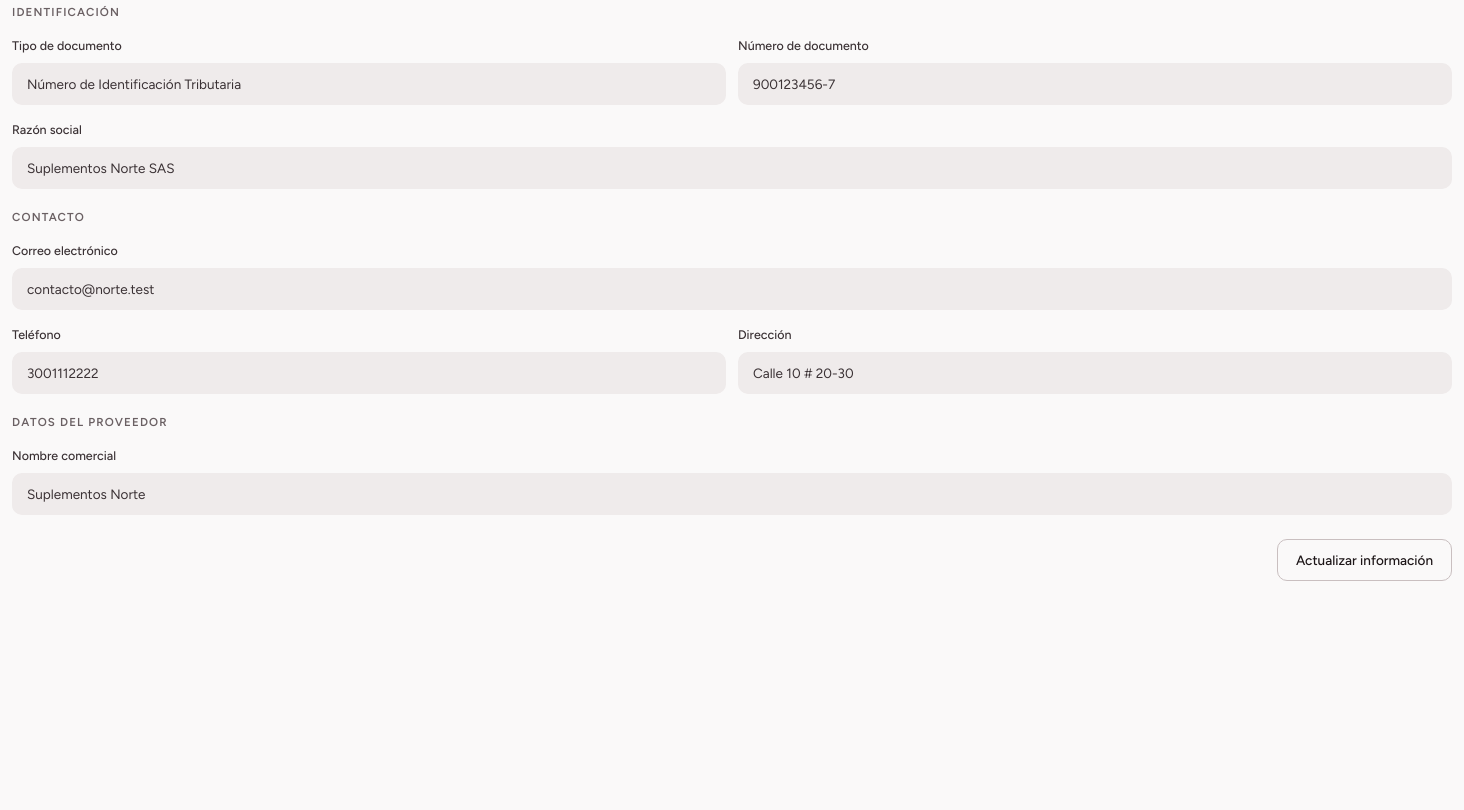
SupplierDataForm validation › uses the same rules as the registration
Click the button "Actualizar información" at (1364, 560), box x1=1277 y1=539 x2=1452 y2=581
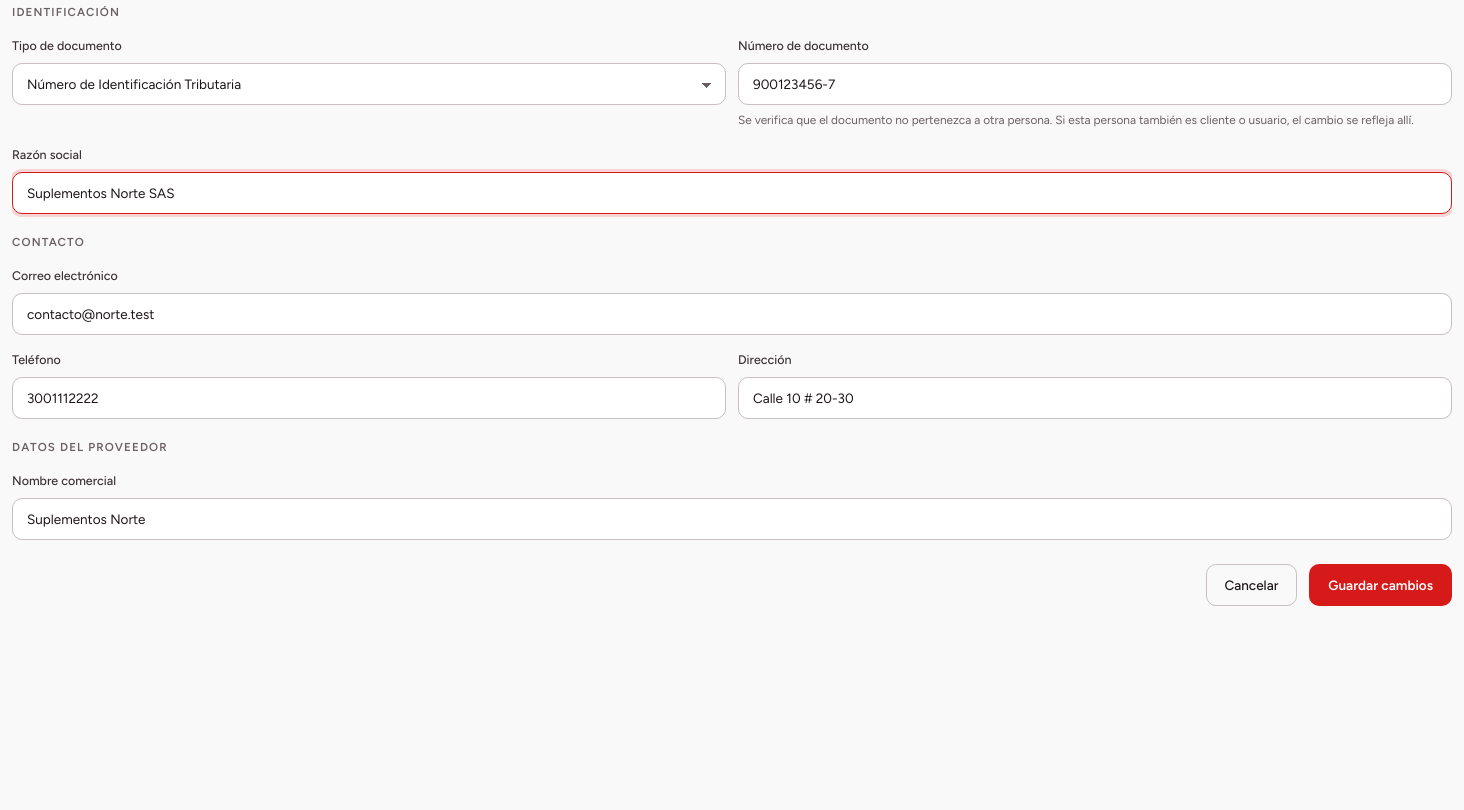
Now the dropdown labelled "Tipo de documento" shows "Número de Identificación Tributaria", box x1=12 y1=63 x2=726 y2=105
Clear the field labelled "Razón social" at (732, 193), box x1=12 y1=172 x2=1452 y2=214
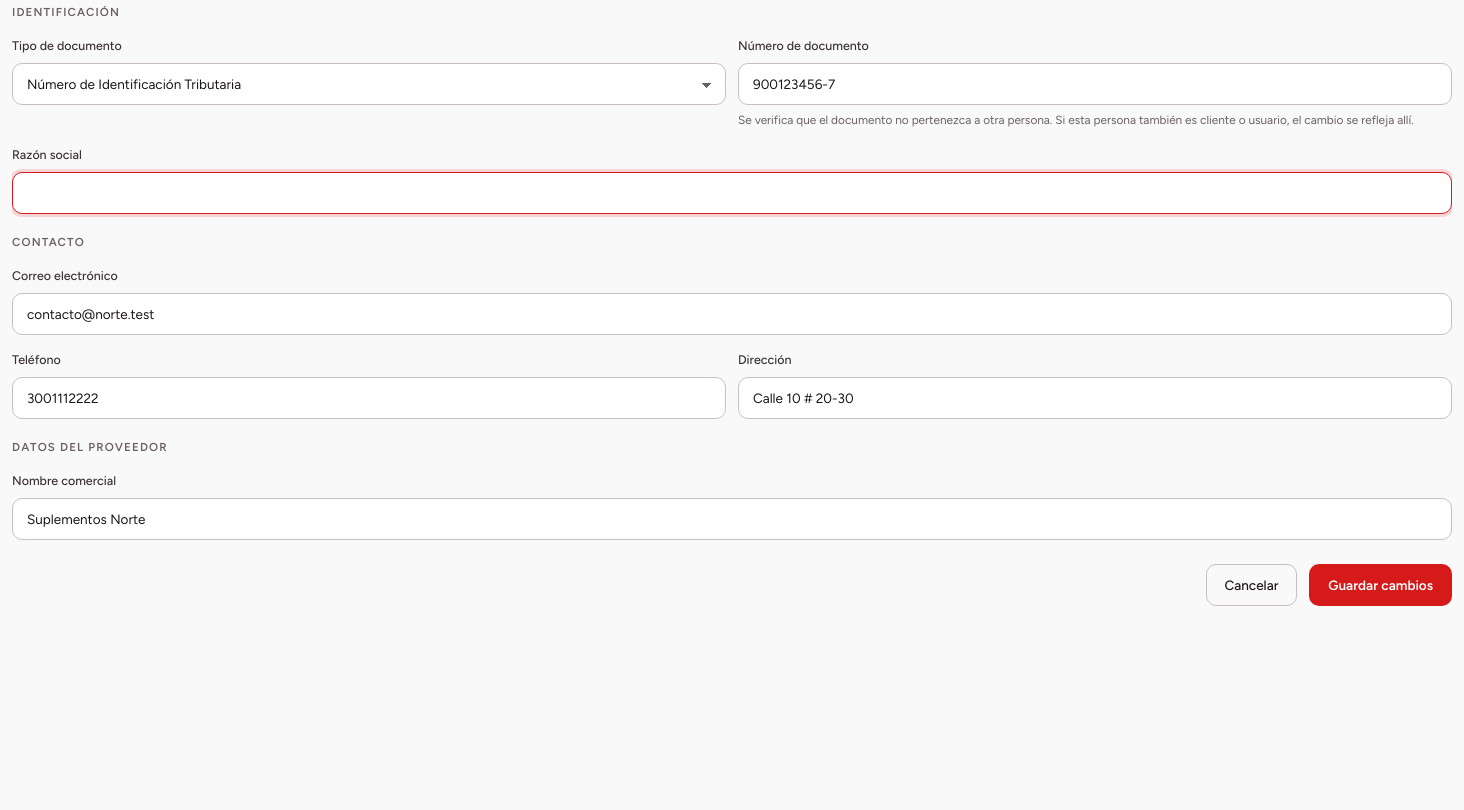
Clear the field labelled "Dirección" at (1095, 398), box x1=738 y1=377 x2=1452 y2=419
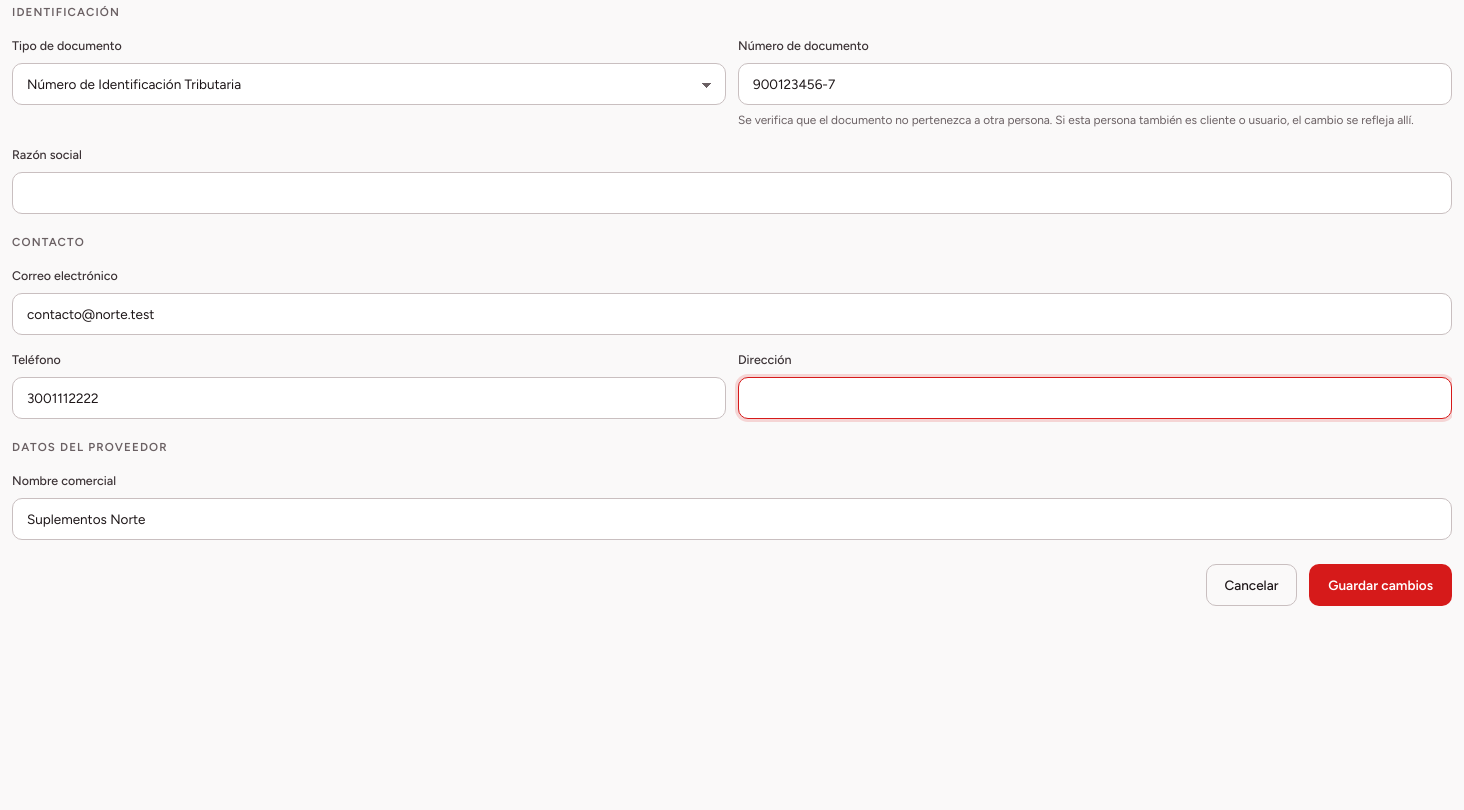
Replace the text in the field labelled "Teléfono" with "300 abc" at (369, 398), box x1=12 y1=377 x2=726 y2=419
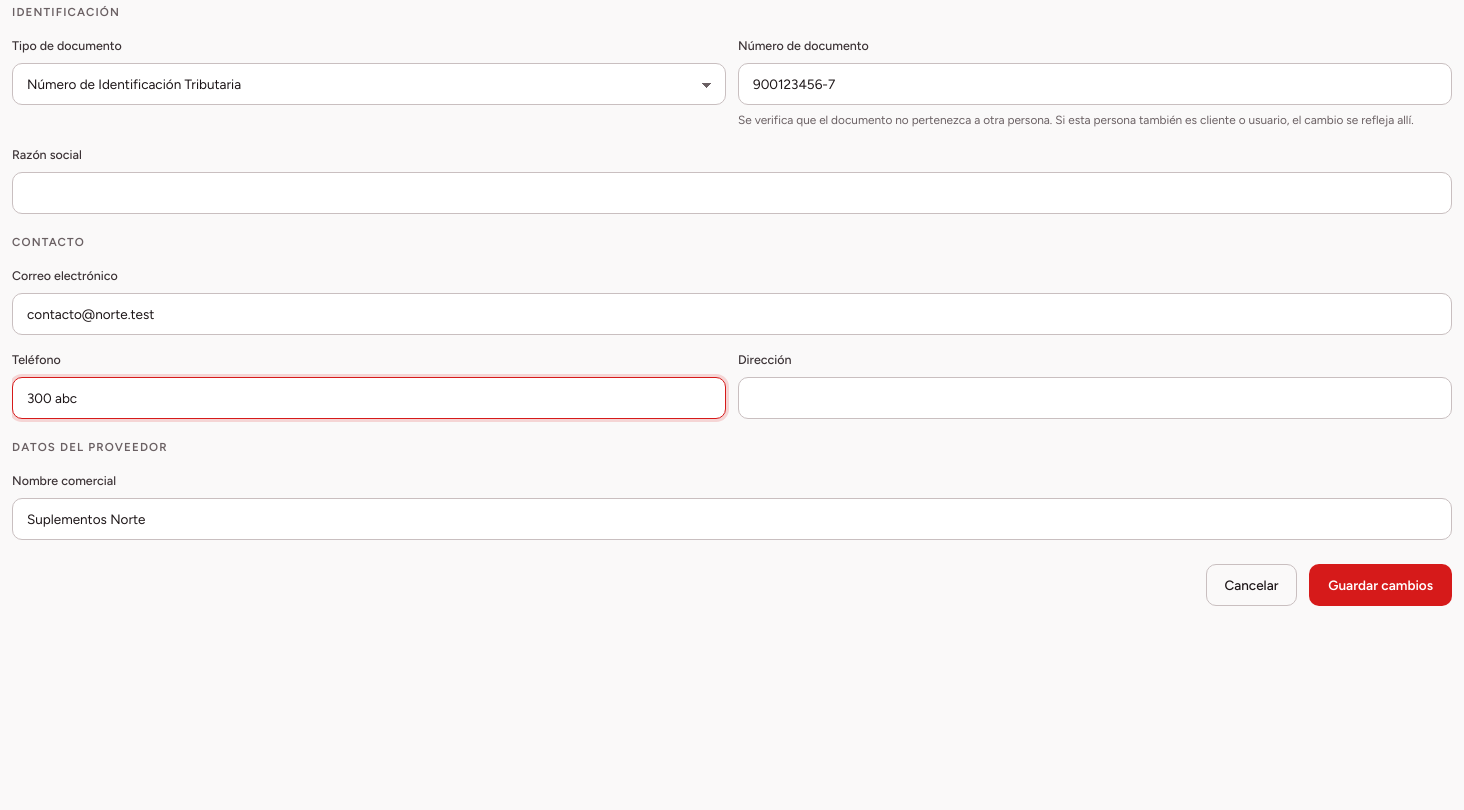
Replace the text in the field labelled "Número de documento" with "9001" at (1095, 84), box x1=738 y1=63 x2=1452 y2=105
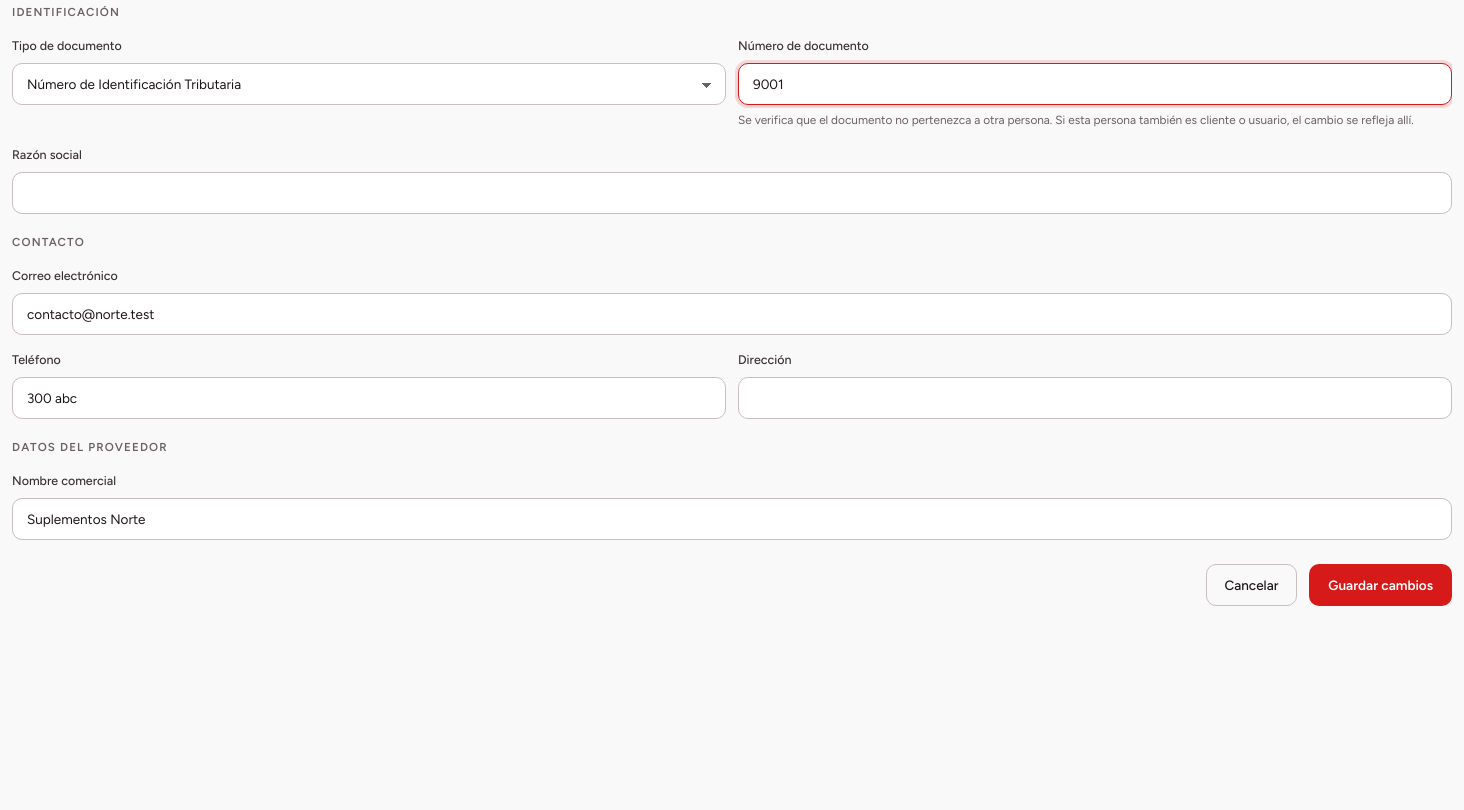
Click the button "Guardar cambios" at (1381, 585), box x1=1309 y1=564 x2=1452 y2=606
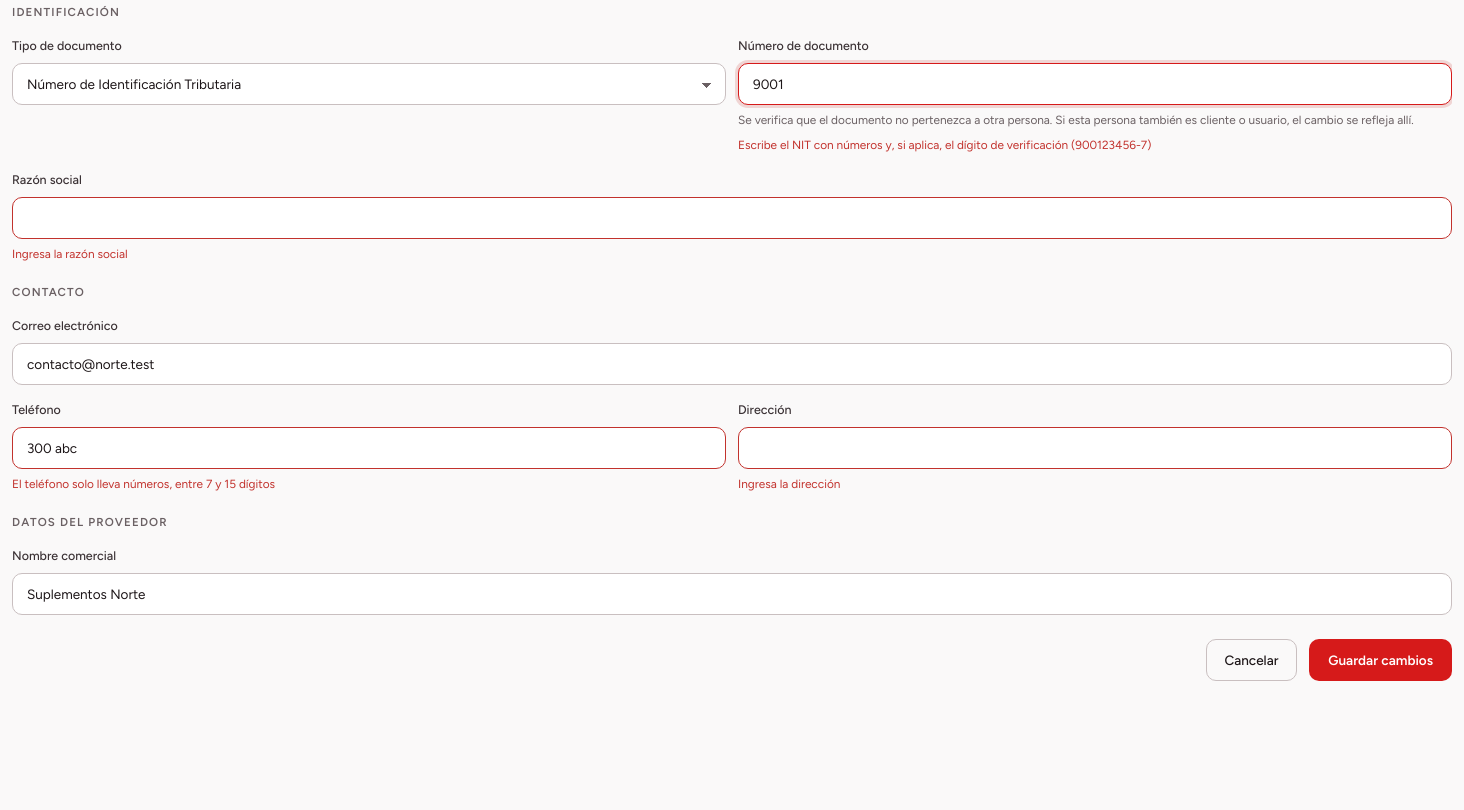
Now the text "Ingresa la razón social" is shown, box x1=12 y1=247 x2=128 y2=261
Now the text "Ingresa la dirección" is shown, box x1=738 y1=477 x2=840 y2=491
Now the text "El teléfono solo lleva números, entre 7 y 15 dígitos" is shown, box x1=12 y1=477 x2=275 y2=491
